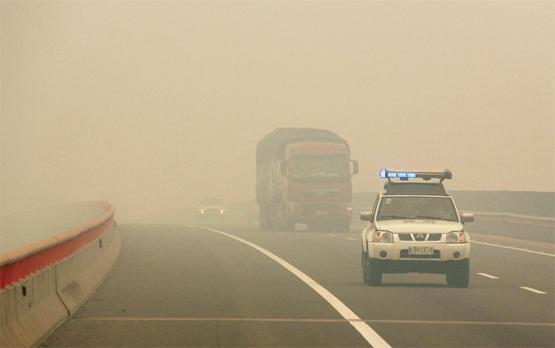bus: (254, 127, 359, 233)
car: (360, 168, 475, 287), (194, 198, 226, 222)
